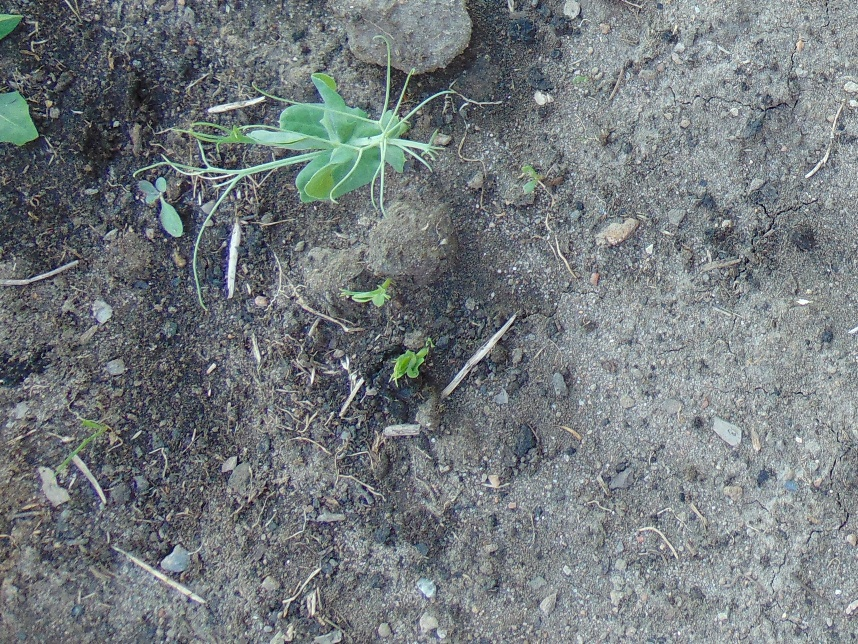crop: (187, 77, 435, 215), (387, 343, 429, 380), (339, 278, 394, 306)
weed: (138, 176, 184, 238), (1, 87, 39, 152), (85, 412, 107, 440), (1, 14, 22, 42)
